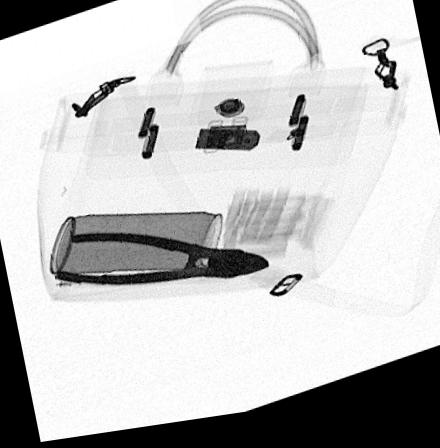Pliers: (48, 232, 275, 290)
